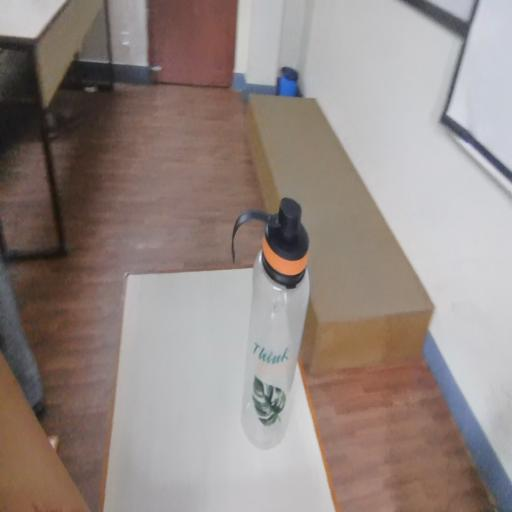Bottle: (251, 214, 316, 445)
